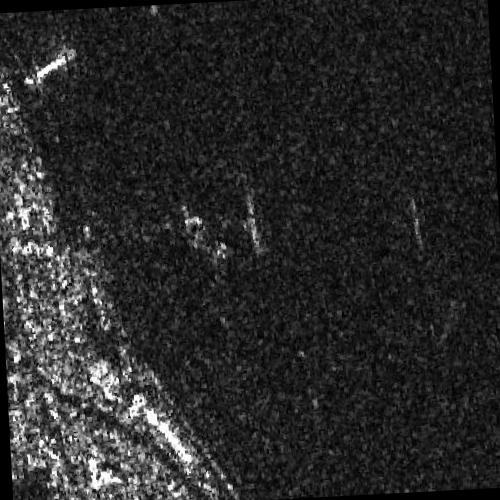ship: (23, 47, 77, 85)
